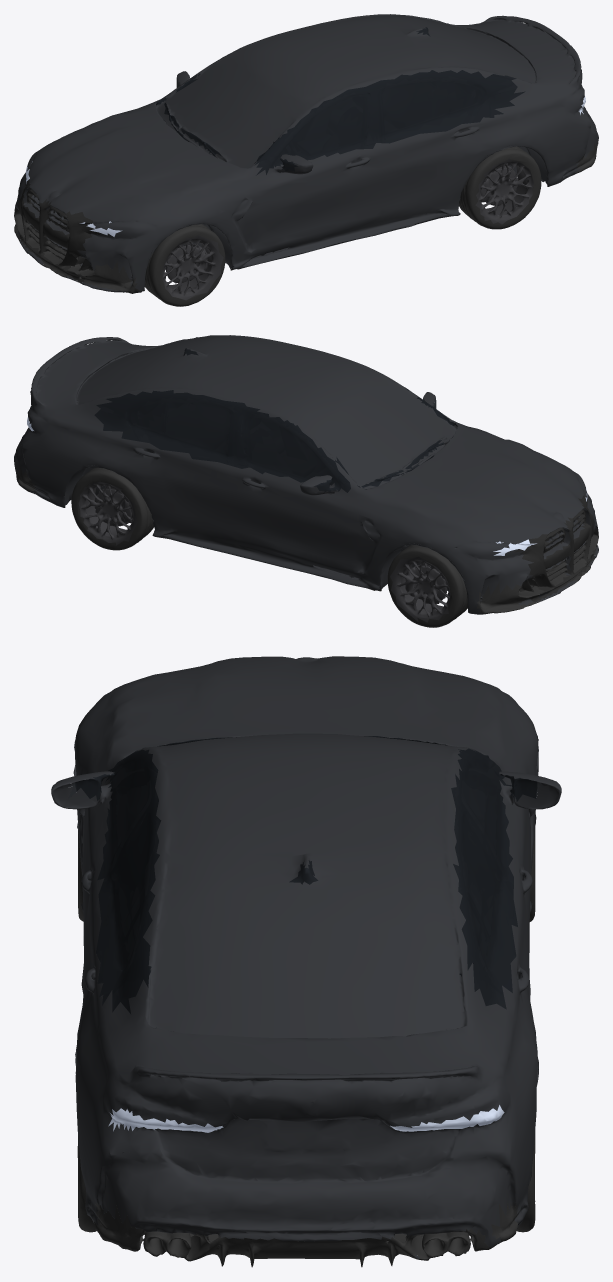
Rendered from syn-g80-meshy-clean.glb.
3 views of the same model, one above another, from view 1: azimuth 30°, elevation 25°; view 2: azimuth 150°, elevation 25°; view 3: azimuth 270°, elevation 25° (orthographic). The views are drawn at different scales.
Visible parts, largest first — view 1: body, wheels, glass; view 2: body, wheels, glass; view 3: body, glass, wheels, lights.
Part boxes in pixels (<box>): body: <box>15,14,598,292</box>; wheels: <box>14,141,597,306</box>; glass: <box>156,19,525,175</box>; body: <box>14,335,598,614</box>; wheels: <box>16,463,598,627</box>; glass: <box>94,339,457,492</box>; body: <box>51,656,561,1259</box>; glass: <box>65,736,543,1013</box>; wheels: <box>77,828,535,1267</box>; lights: <box>108,1105,504,1132</box>.
Size of the model in its own units: 1.9 by 0.5732 by 0.7931.
4 materials, 4 textured.
